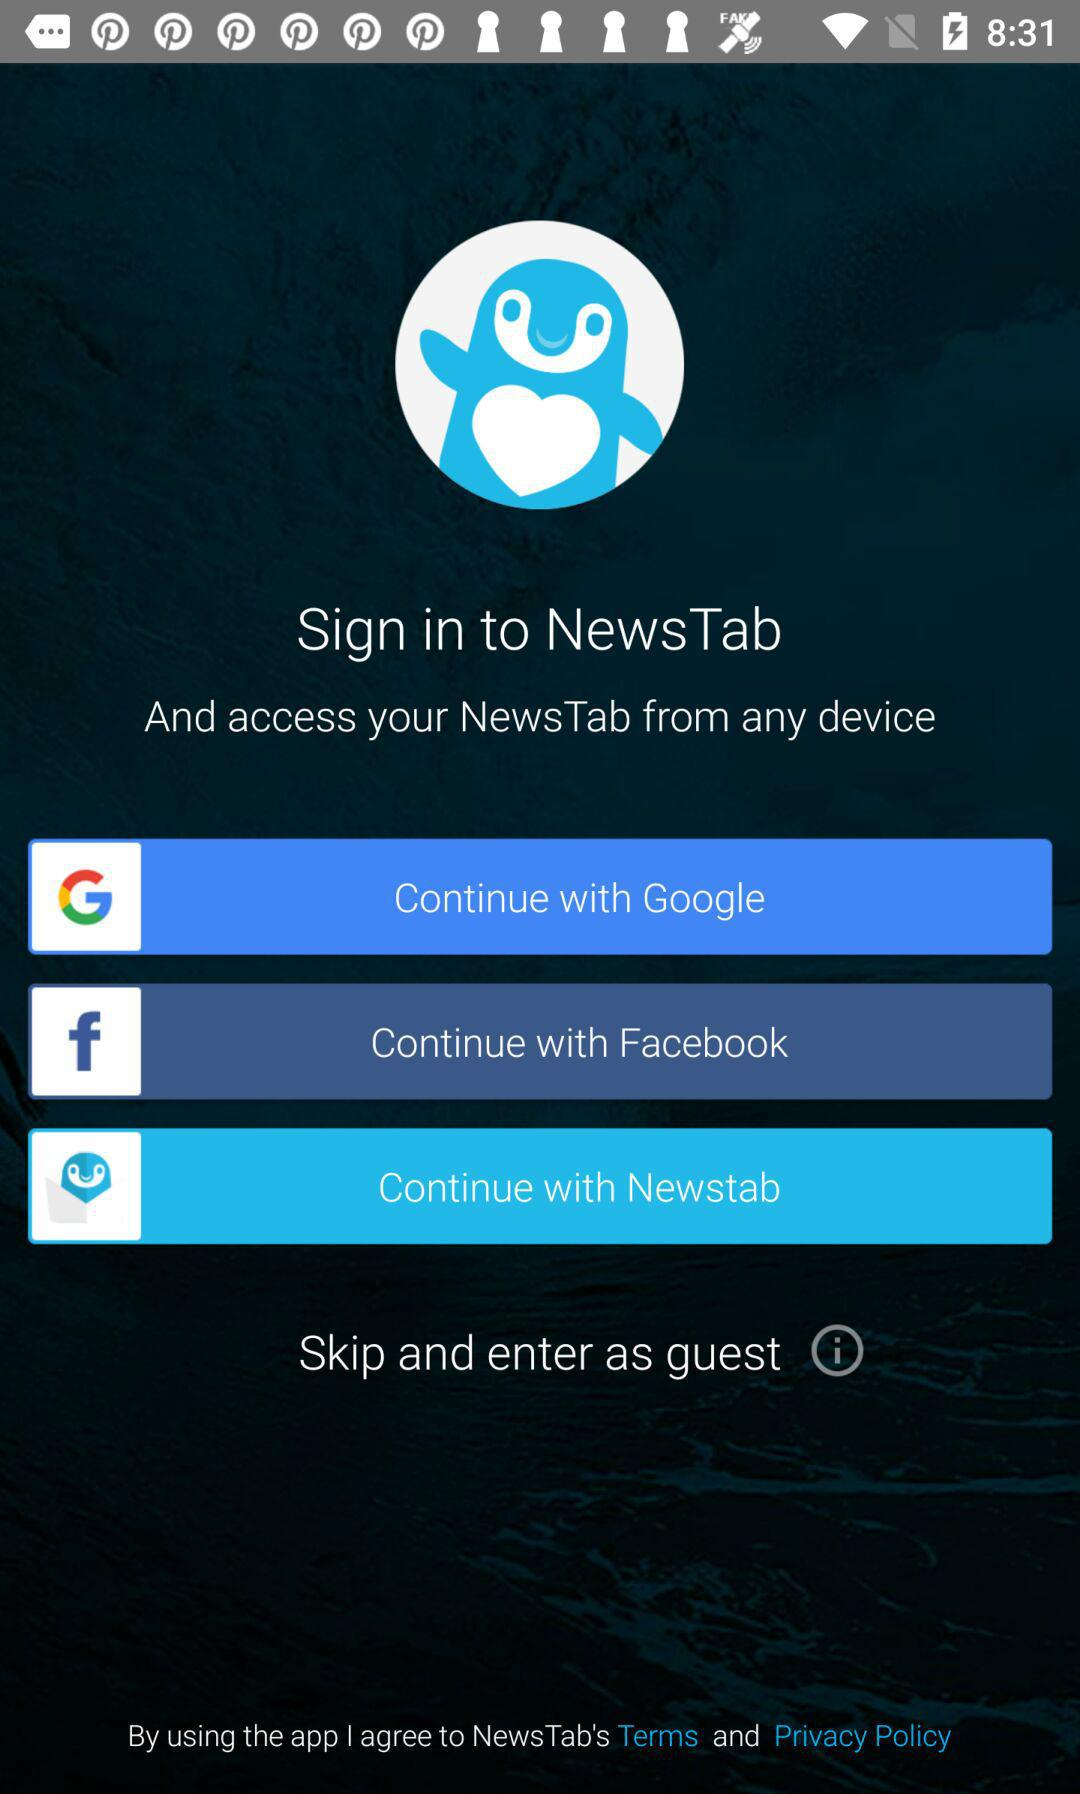Icon: (811, 1324, 865, 1378)
Image: (395, 220, 685, 513)
Text: (142, 698, 937, 745), (122, 1717, 958, 1756), (297, 605, 781, 665), (299, 1331, 781, 1381)
TextButton: (28, 838, 1053, 956), (28, 983, 1052, 1101), (28, 1128, 1052, 1246)
UpperTaskBar: (1, 1, 1080, 64)
